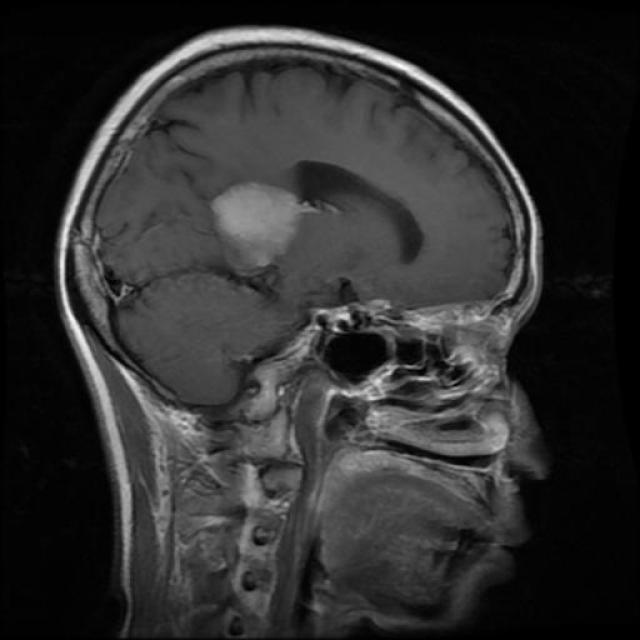meningioma: (212, 184, 302, 266)
